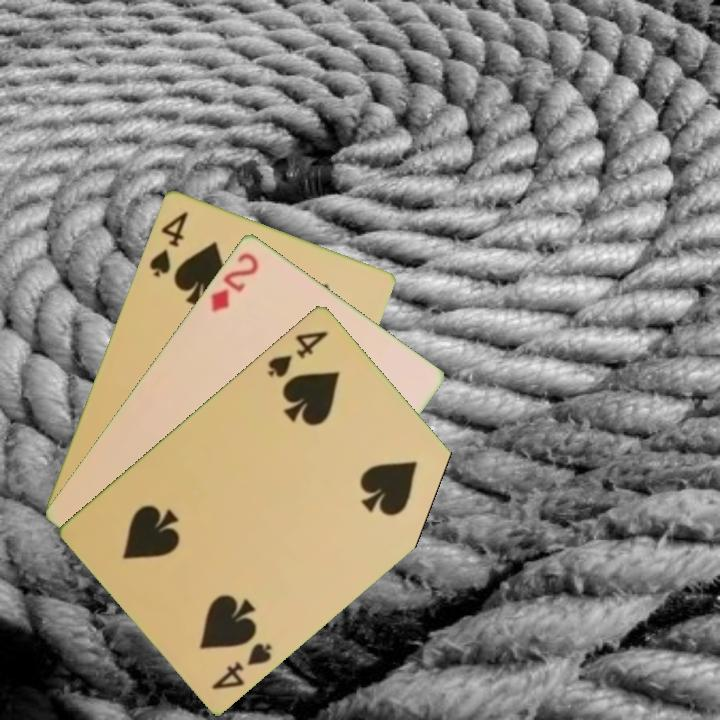2d: (207, 248, 262, 315)
4s: (208, 638, 276, 692), (264, 326, 331, 380), (145, 207, 191, 280)
